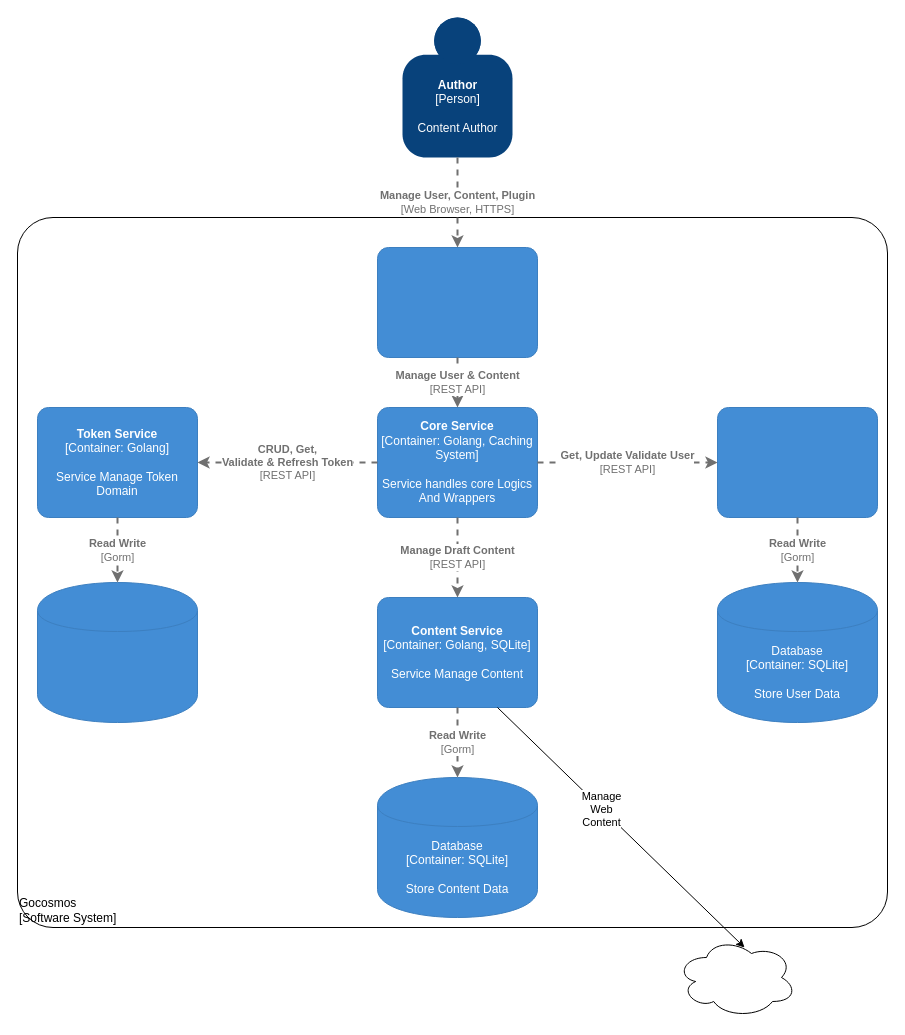
The diagram is 905 pixels wide and 1035 high, and some of its shapes have lost their labels. Each missing label, with the centre of its shape:
"Author Dashboard Web App [Container: Golang, HTML, CSS, JS] GUI for Author" belongs at (x=457, y=302).
"Database [Container: SQLite] Store Token Data" belongs at (x=117, y=652).
"User Service [Container: Golang] Service Manage User Domain" belongs at (x=797, y=462).
"Website/Blog" belongs at (x=736, y=977).
